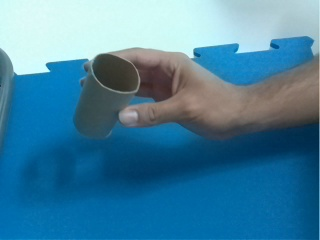rollo papel: (74, 52, 141, 142)
